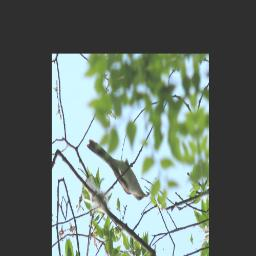Cuckoo: (86, 124, 149, 218)
